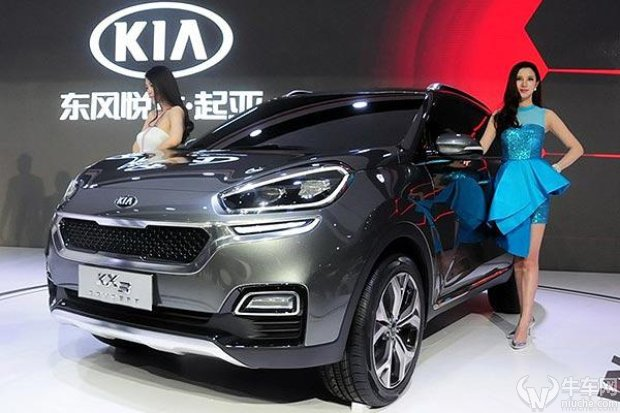car: (51, 118, 472, 351)
person: (482, 58, 571, 346), (130, 60, 186, 143)
